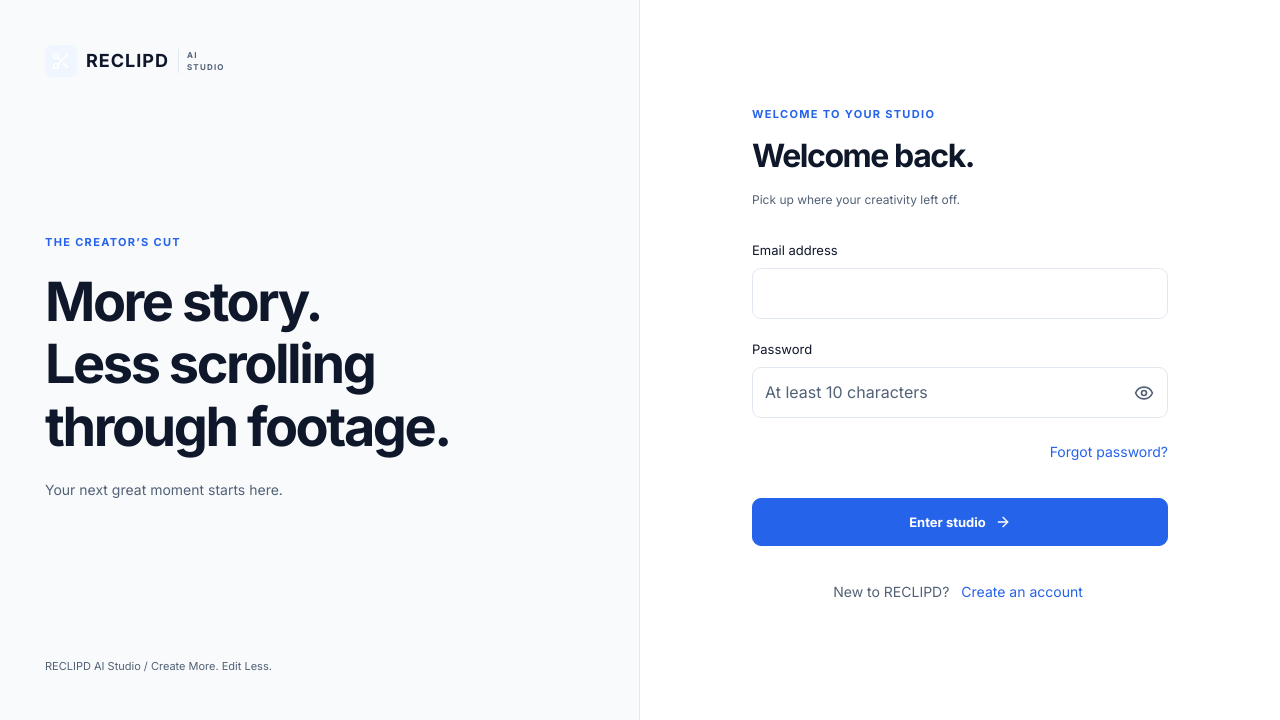
Test case: shows API authentication failures to the user
The image size is (1280, 720).
Type "a@example.com" into the field labelled "Email address" at (960,294), box [752, 268, 1168, 319]
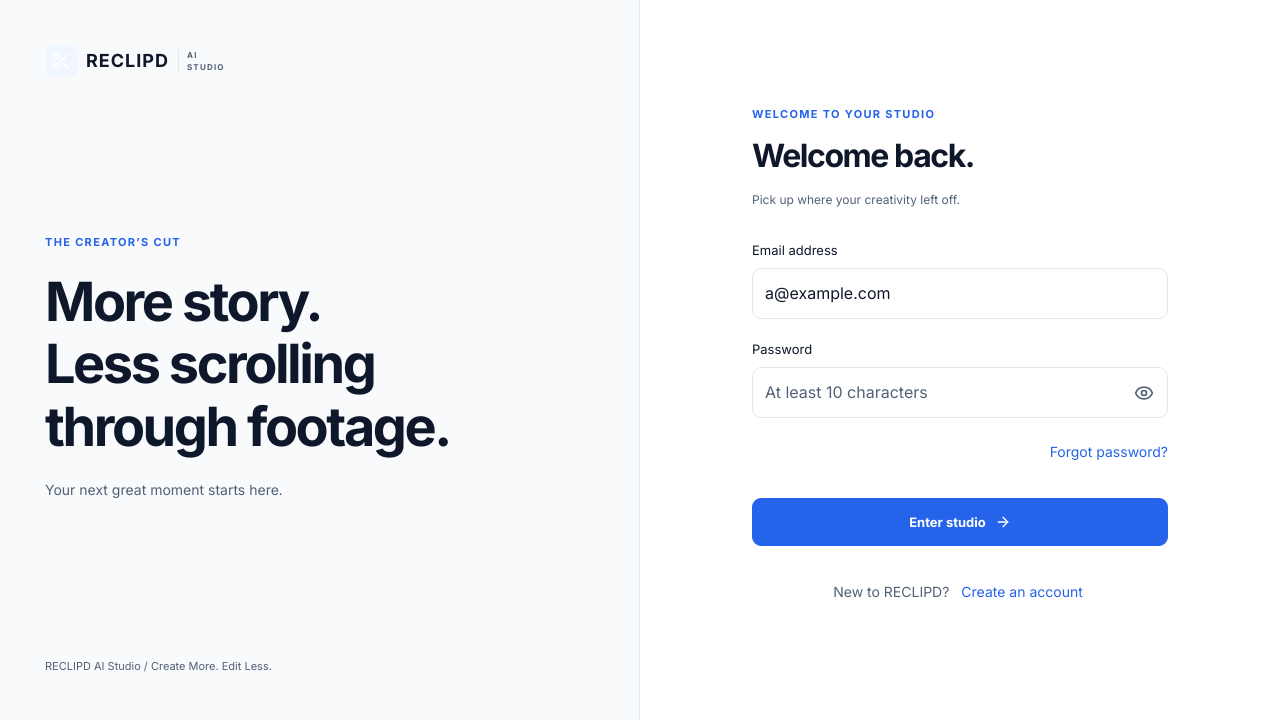
Type "bad-password" into the password field labelled "Password" at (960,393), box [752, 367, 1168, 418]
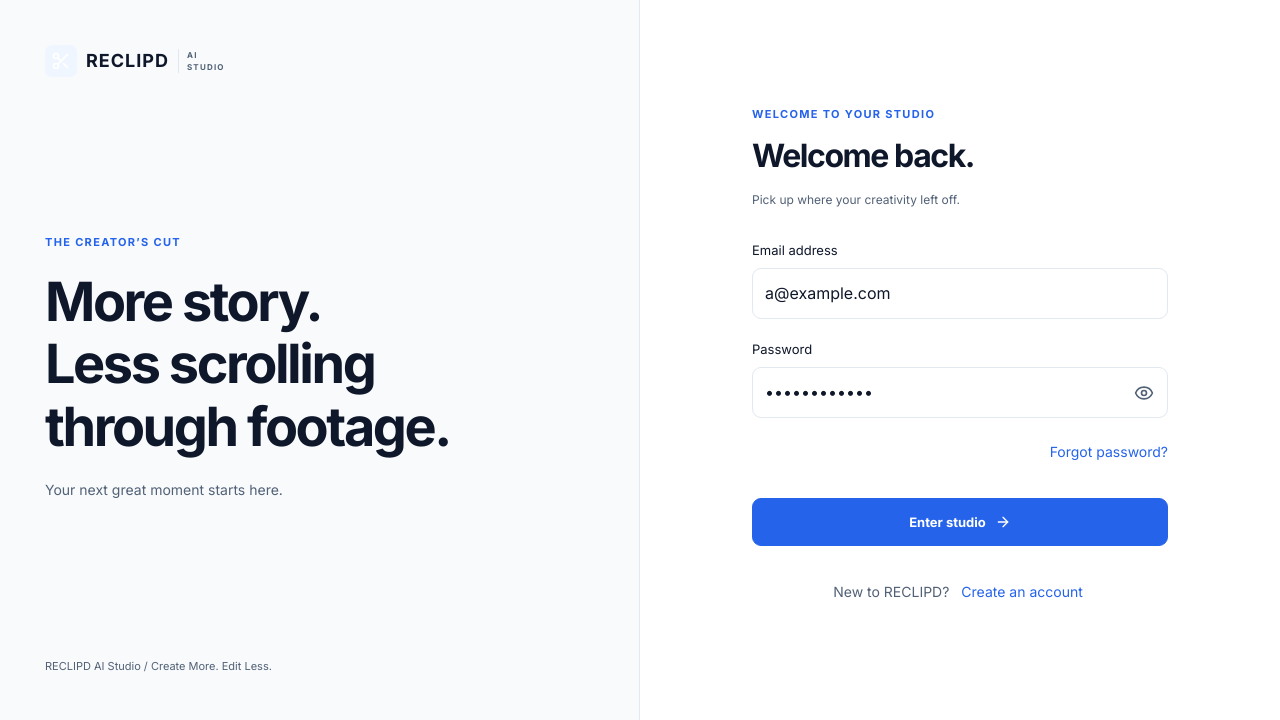
Click the button "Enter studio" at (960,522), box [752, 498, 1168, 546]
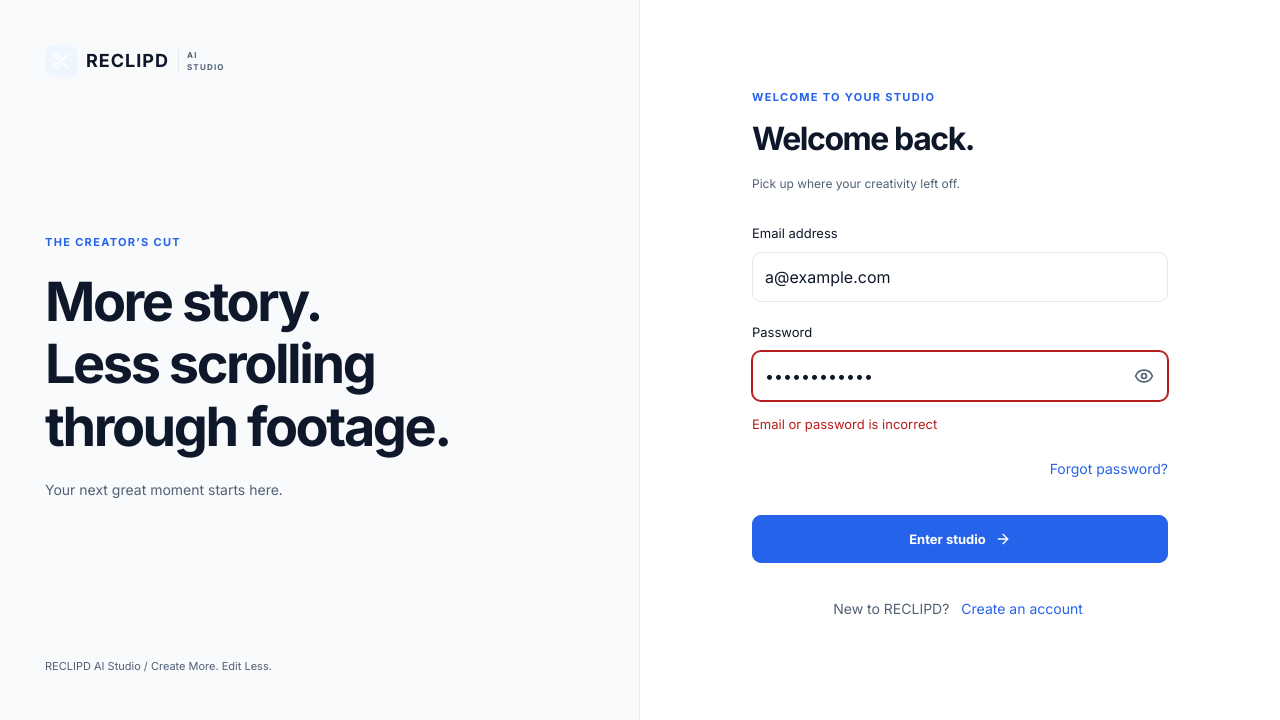
Result: the message reads "Email or password is incorrect" at [752, 416, 937, 432]
